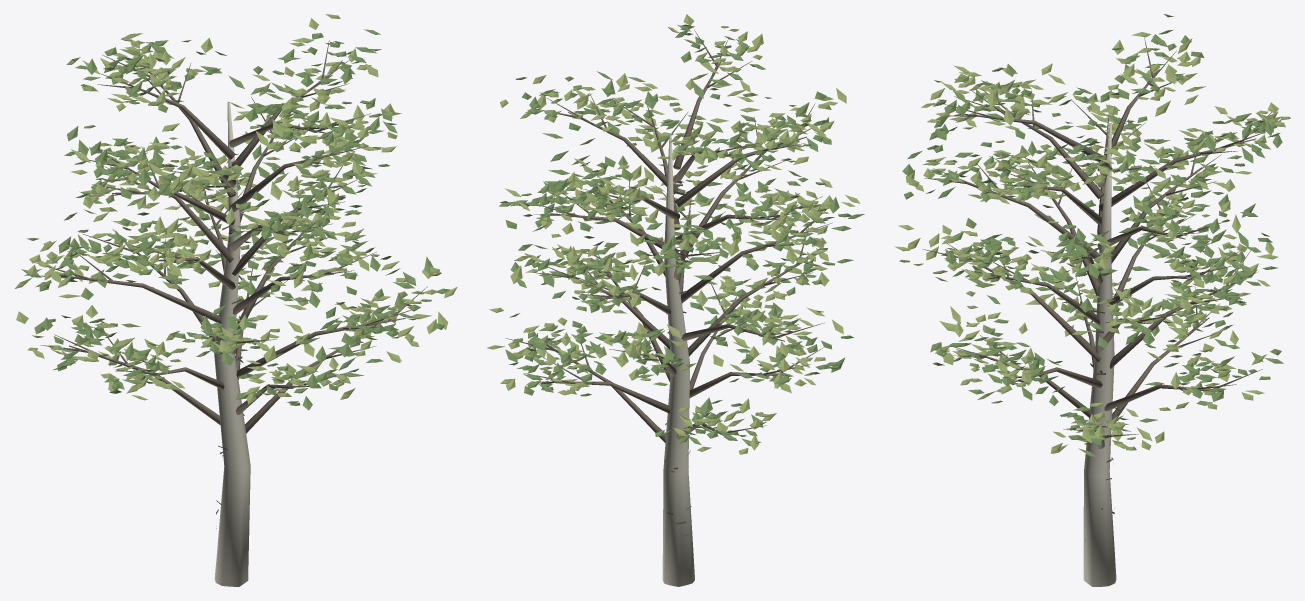
File: CW_RiverBirch.fbx
3 renders of one model, left to right at view 1: azimuth 30°, elevation 25°; view 2: azimuth 150°, elevation 25°; view 3: azimuth 270°, elevation 25°, orthographic. The views are drawn at different scales.
Parts seen in each view (by area): view 1: CW_RiverBirch; view 2: CW_RiverBirch; view 3: CW_RiverBirch.
Part boxes in pixels (x1,y1,x2,y2): CW_RiverBirch: [14, 14, 457, 586]; CW_RiverBirch: [487, 14, 864, 586]; CW_RiverBirch: [894, 14, 1290, 586].
Bounding box in the file's own units: 5.28 × 6.92 × 4.87.
